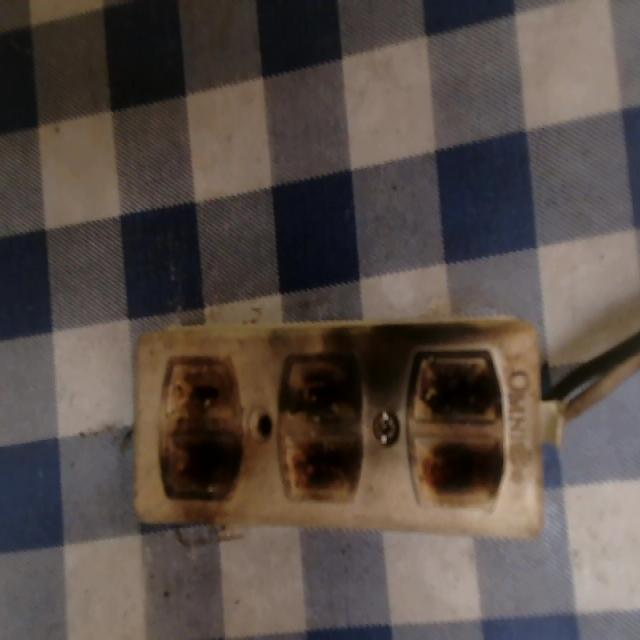-: (414, 353, 509, 507), (275, 348, 365, 500), (156, 347, 243, 493)
